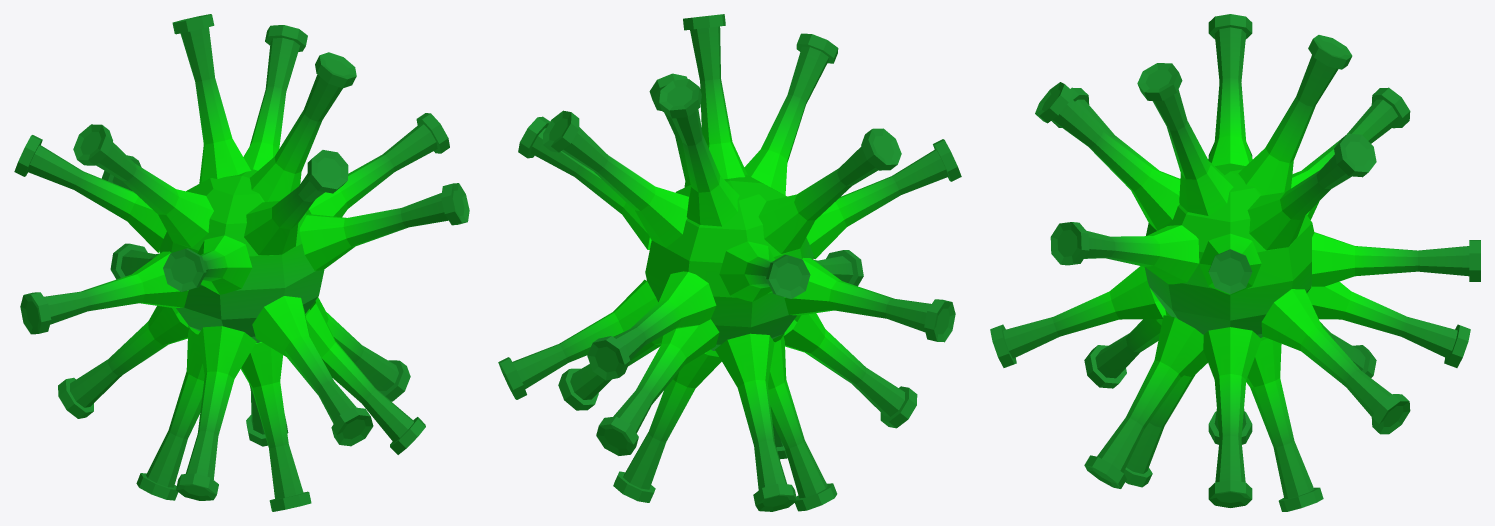
The model's file is сell.glb.
3 renders of one model, left to right at view 1: azimuth 30°, elevation 25°; view 2: azimuth 150°, elevation 25°; view 3: azimuth 270°, elevation 25°, orthographic. The views are drawn at different scales.
Visible parts, largest first — view 1: mut; view 2: mut; view 3: mut.
Part boxes in pixels (x1,y1,x2,y2): mut: (14,14,469,511); mut: (498,14,961,511); mut: (990,14,1480,511).
Size of the model in its own units: 0.1 by 0.1 by 0.1.
